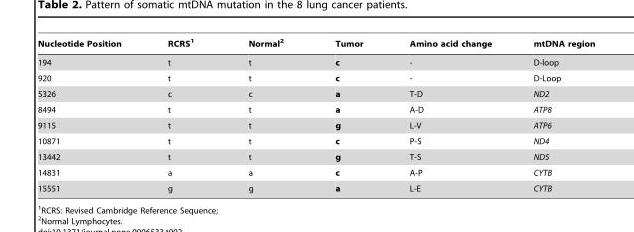table: (37, 37, 594, 192)
table column: (385, 37, 511, 192), (37, 37, 143, 192), (220, 37, 308, 192), (511, 37, 594, 192), (143, 37, 220, 192), (308, 37, 385, 192)
table column header: (37, 37, 594, 52)
table row: (37, 52, 594, 70), (37, 85, 594, 101), (37, 101, 594, 117), (37, 117, 594, 133), (37, 148, 594, 164), (37, 164, 594, 180), (37, 37, 594, 52), (37, 70, 594, 85), (37, 133, 594, 148), (37, 180, 594, 192)
